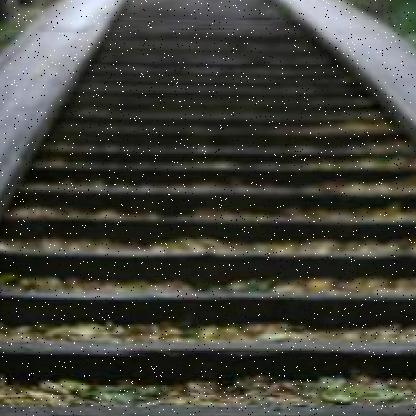stair_up: (4, 155, 416, 416)
